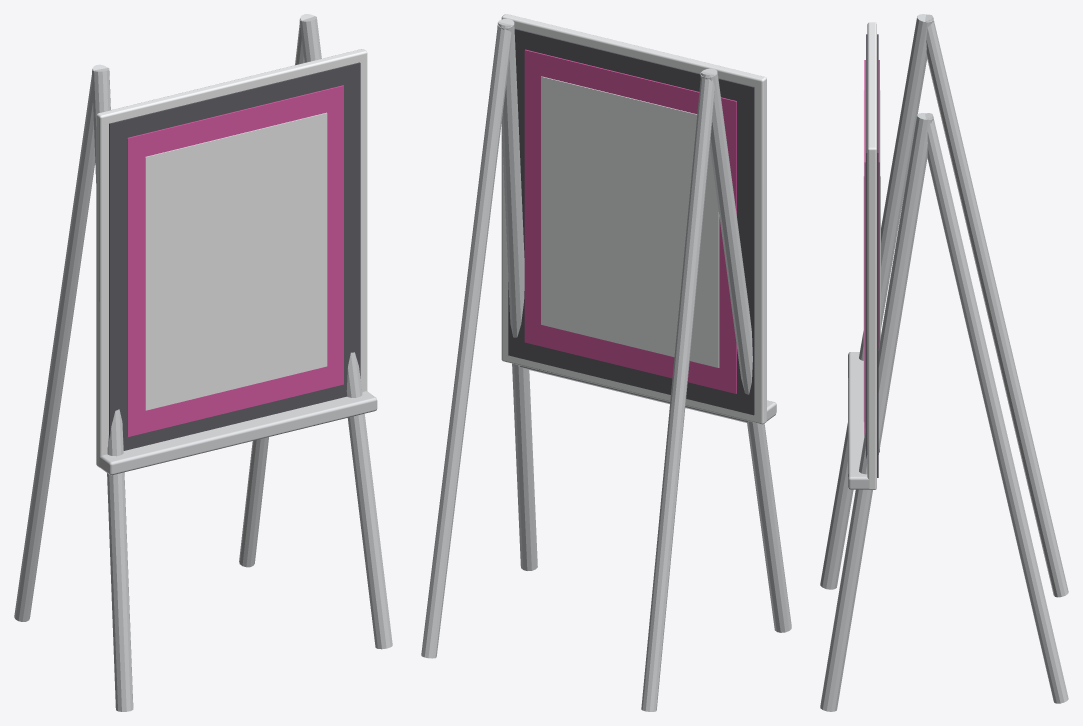
File: tattoo-and-piercing-studio-portfolio-stand-522babb2__34530.glb
3 views of the same model, side by side, from view 1: azimuth 30°, elevation 25°; view 2: azimuth 150°, elevation 25°; view 3: azimuth 270°, elevation 25° (orthographic). The views are drawn at different scales.
Visible parts, largest first — view 1: portfolio-board/white, portfolio-stand, portfolio-board/magenta, portfolio-board/dark, portfolio-board/steel; view 2: portfolio-board/white, portfolio-stand, portfolio-board/magenta, portfolio-board/dark; view 3: portfolio-stand, portfolio-board/white, portfolio-board/steel, portfolio-board/dark, portfolio-board/magenta.
Part boxes in pixels (x1=…): portfolio-board/white: x1=96, y1=49, x2=367, y2=467; portfolio-stand: x1=14, y1=14, x2=392, y2=711; portfolio-board/magenta: x1=127, y1=85, x2=343, y2=436; portfolio-board/dark: x1=109, y1=62, x2=360, y2=450; portfolio-board/steel: x1=99, y1=391, x2=377, y2=475; portfolio-board/white: x1=501, y1=14, x2=766, y2=424; portfolio-stand: x1=421, y1=18, x2=791, y2=711; portfolio-board/magenta: x1=524, y1=49, x2=736, y2=393; portfolio-board/dark: x1=508, y1=28, x2=754, y2=415; portfolio-stand: x1=820, y1=14, x2=1068, y2=711; portfolio-board/white: x1=863, y1=22, x2=880, y2=489; portfolio-board/steel: x1=848, y1=352, x2=869, y2=489; portfolio-board/dark: x1=866, y1=34, x2=878, y2=477; portfolio-board/magenta: x1=864, y1=60, x2=879, y2=452.
Bounding box in the file's own units: 0.6349 × 1.33 × 0.5129.
